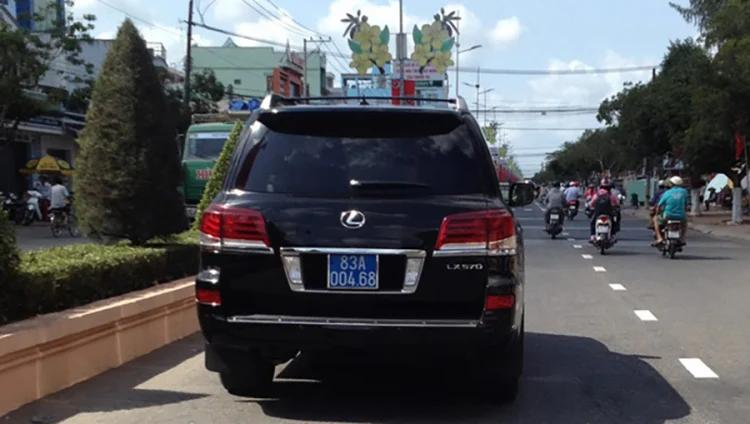numplate: (325, 248, 380, 292)
